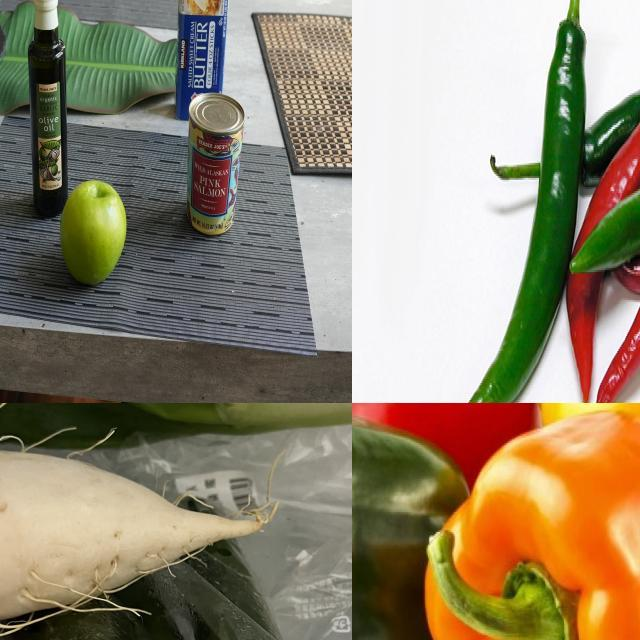bell_pepper: (425, 408, 640, 640), (353, 404, 467, 640), (353, 404, 542, 473)
onion: (1, 404, 353, 453)
